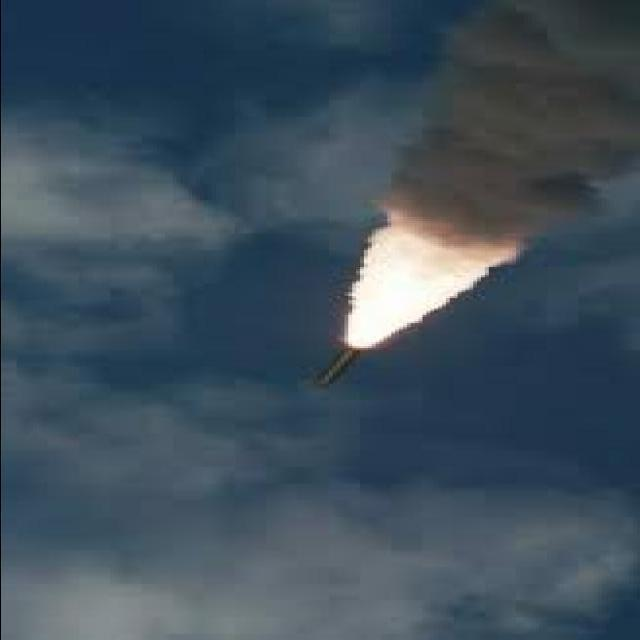missile: (315, 337, 360, 393)
